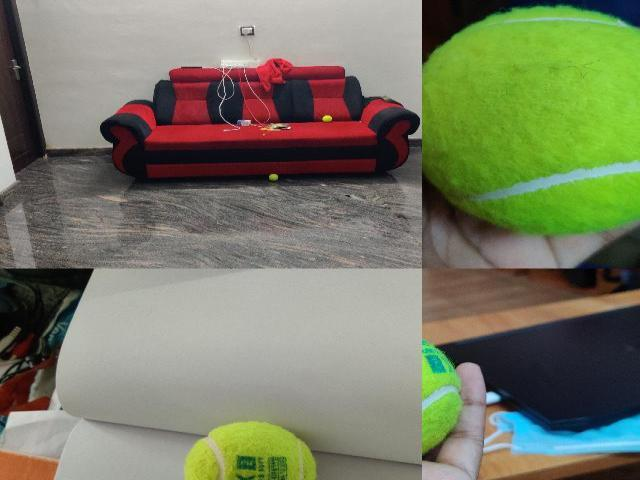tennis-ball: (422, 5, 639, 234), (183, 420, 317, 479), (422, 324, 461, 468), (268, 173, 278, 181), (322, 115, 332, 122)
